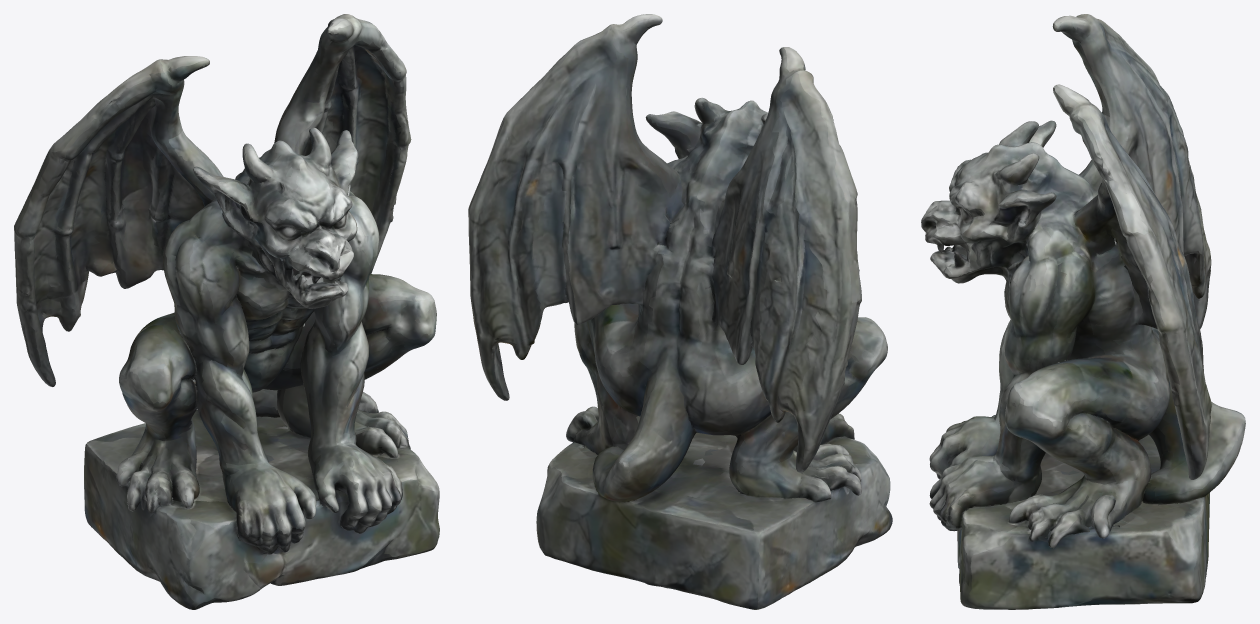
Rendered from gargoyle.glb.
3 renders of one model, left to right at view 1: azimuth 30°, elevation 25°; view 2: azimuth 150°, elevation 25°; view 3: azimuth 270°, elevation 25°, orthographic.
Parts seen in each view (by area): view 1: geometry_0; view 2: geometry_0; view 3: geometry_0.
Part boxes in pixels (x1,y1,x2,y2): geometry_0: (14,14,439,609); geometry_0: (468,14,892,609); geometry_0: (921,14,1245,609).
Size of the model in its own units: 0.4063 by 0.5 by 0.2948.
1 material, 1 textured.
